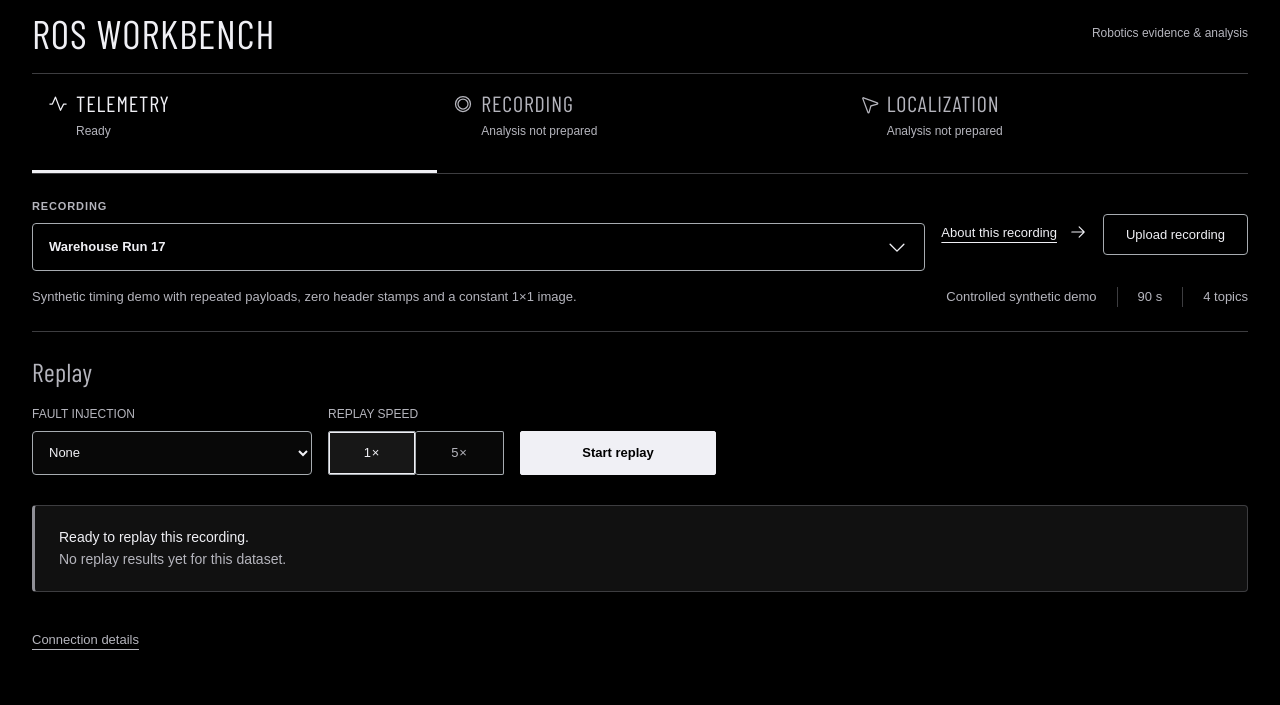
ROS Workbench › labels the source as recorded replay and exposes mission controls
Expected: the heading "Replay" is shown, [32,356,92,387]
Expected: the button "Start replay" is enabled, [520,431,716,475]
Click the text "Connection details" at (86, 640), box [32,630,139,649]
(page scrolled)
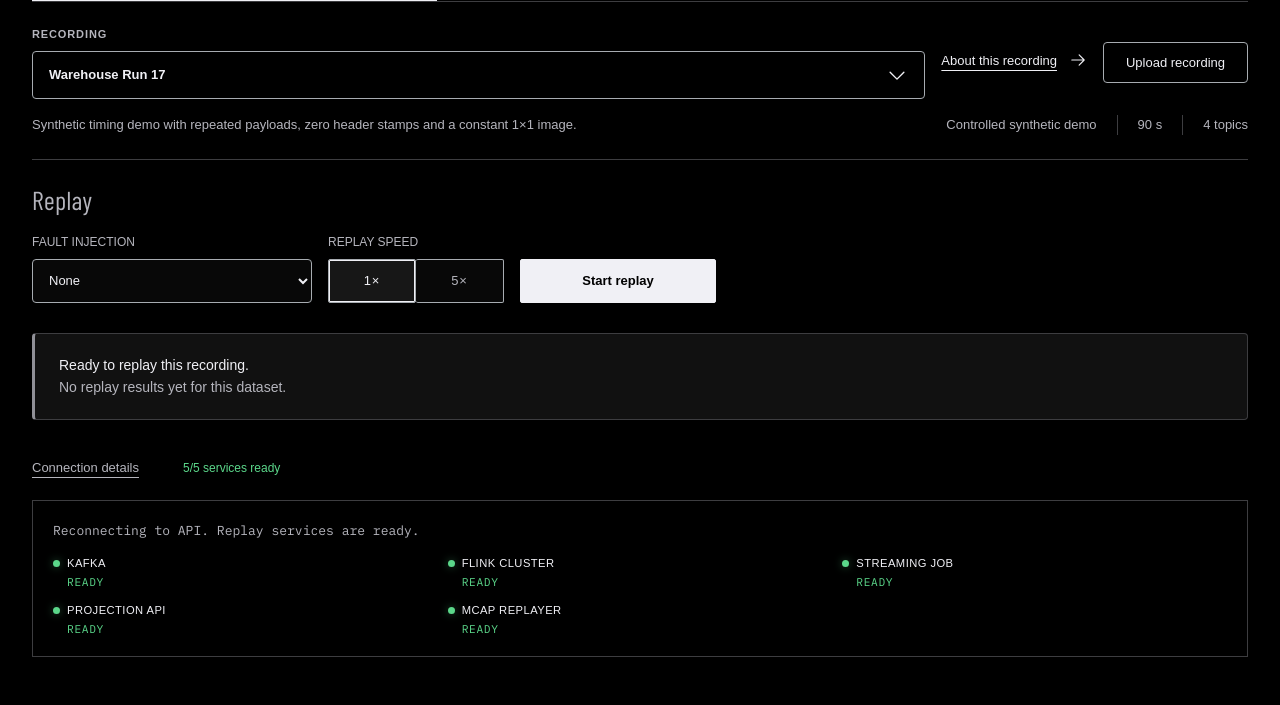
Result: the text "Streaming job" is shown at [856,557,954,569]
Result: the text "ready" is shown 5 times at [67,575,104,589]; [462,575,499,589]; [856,575,893,589]; [67,622,104,636]; [462,622,499,636]
